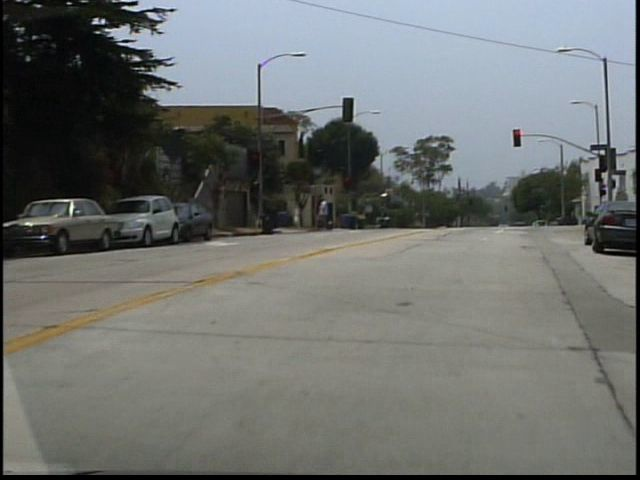person: (324, 199, 336, 234), (298, 203, 307, 232)
